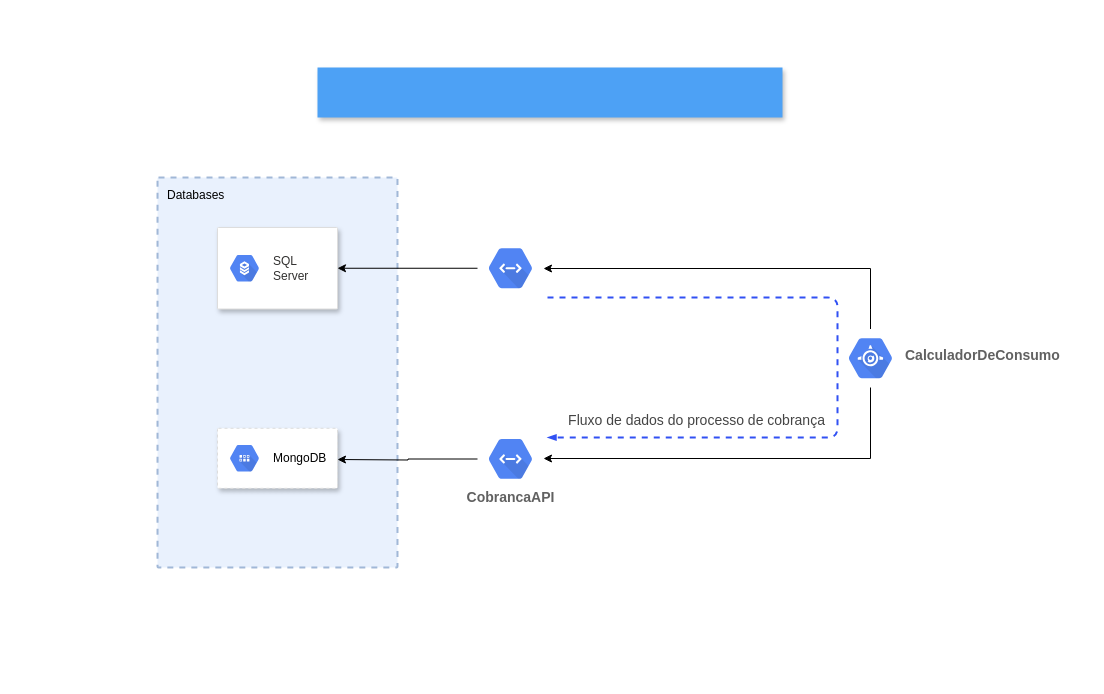
This 1104x694 diagram has some shape labels left out. Each missing label, with the centre of its shape:
ClienteAPI: the point at 510,267
Processamento de Cobranca - Microservice architecture: the point at 550,93
